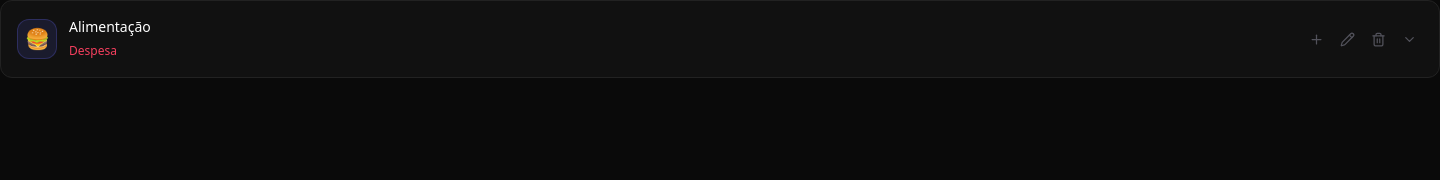
CategoryCard › deve expandir subcategorias ao clicar no chevron
Expected: the text "Restaurante" is not shown
What coordinates should you click on to do the following:
click the 4th button
I would click on:
 (1410, 39)
Its box is [1396,26,1423,52].
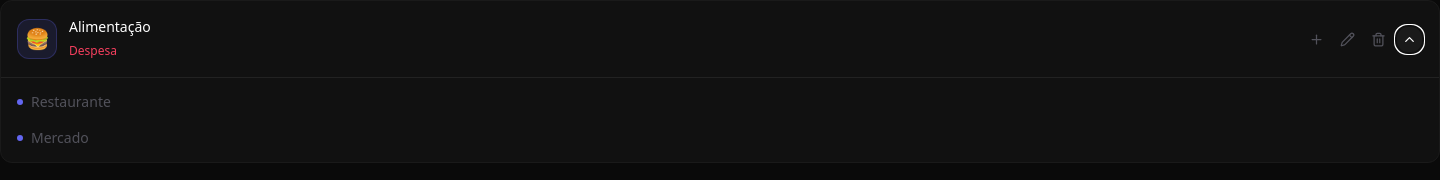
Expected: the text "Restaurante" is shown, [31,92,111,111]
Expected: the text "Mercado" is shown, [31,128,89,147]
